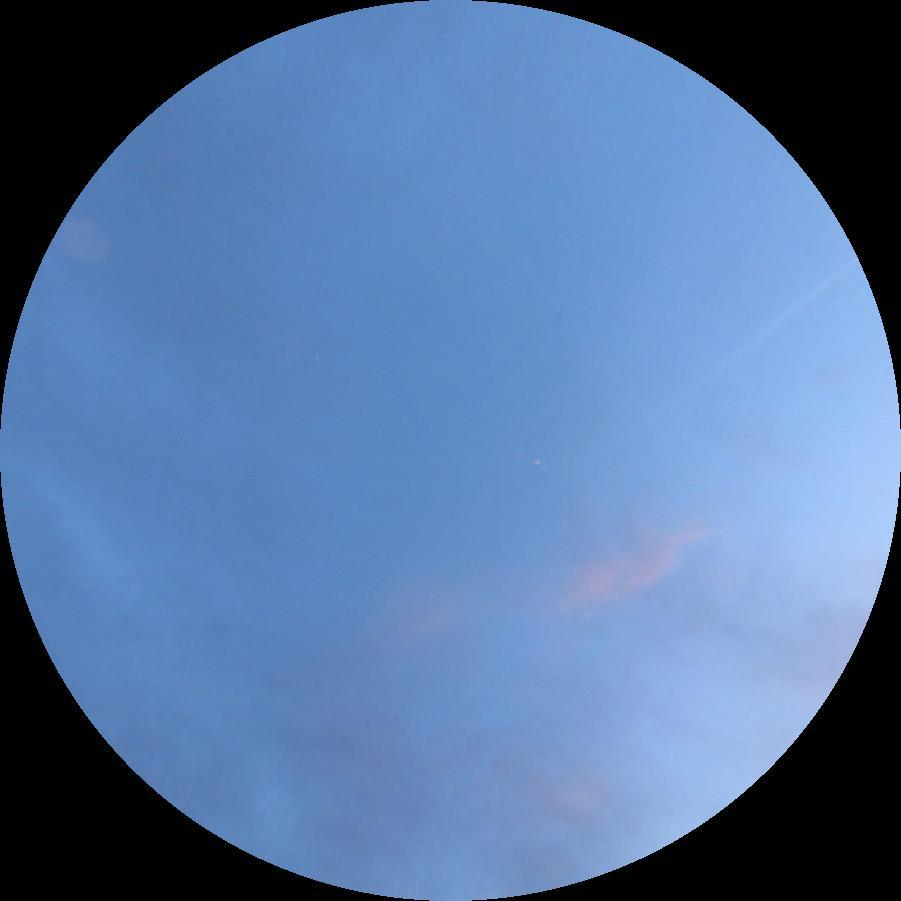contrail old: (642, 254, 864, 429)
